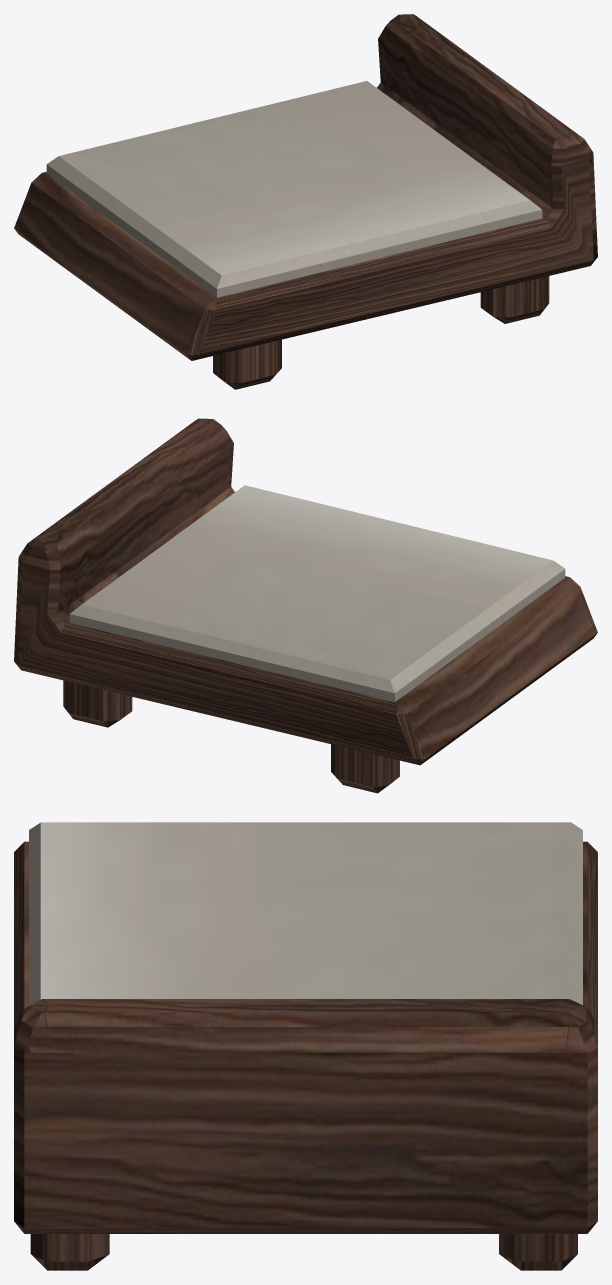
Rendered from bed_1.fbx.
The picture shows the model from 3 angles, top to bottom: view 1: azimuth 30°, elevation 25°; view 2: azimuth 150°, elevation 25°; view 3: azimuth 270°, elevation 25°; orthographic projection. The views are drawn at different scales.
Parts seen in each view (by area): view 1: bed_1; view 2: bed_1; view 3: bed_1.
Part boxes in pixels (box(x1,y1,x2,y2)): bed_1: box(14, 14, 597, 389); bed_1: box(14, 418, 597, 793); bed_1: box(14, 822, 597, 1270).
Bounding box in the file's own units: 414 × 169 × 314.
